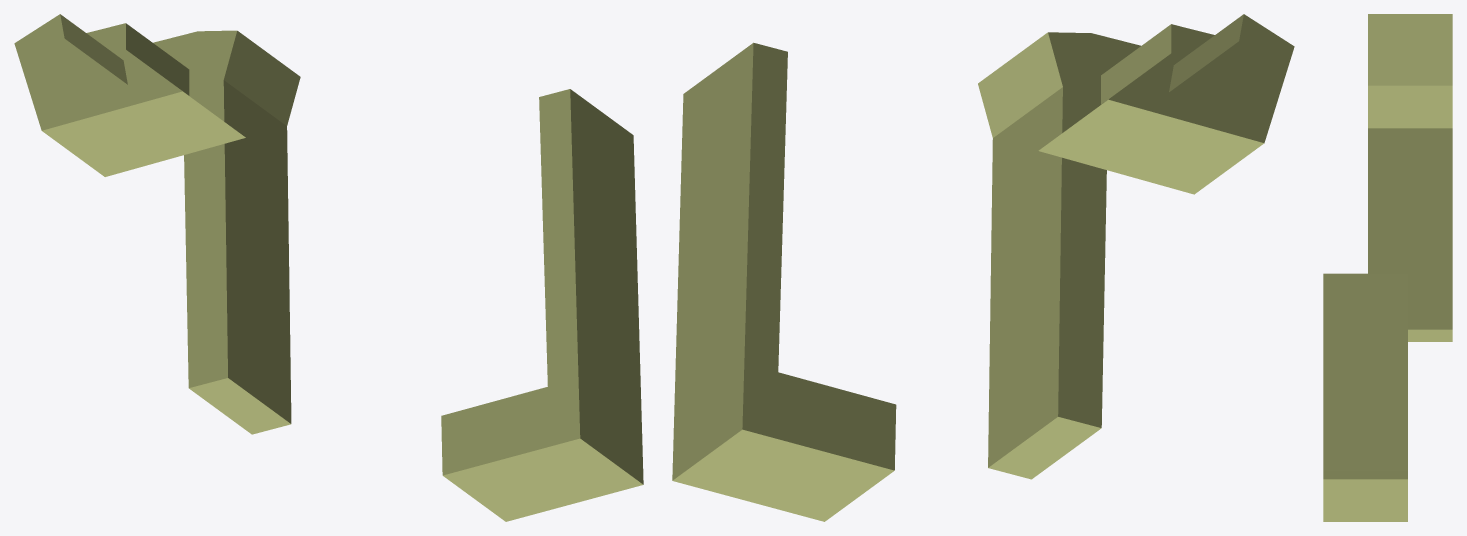
3 renders of one model, left to right at view 1: azimuth 30°, elevation 25°; view 2: azimuth 150°, elevation 25°; view 3: azimuth 270°, elevation 25°, orthographic. The views are drawn at different scales.
Visible parts, largest first — view 1: 0_0_1_1_3_2_3_1_2; view 2: 0_0_1_1_3_2_3_1_2; view 3: 0_0_1_1_3_2_3_1_2.
Part boxes in pixels (box(x1,y1,x2,y2)): 0_0_1_1_3_2_3_1_2: box(14, 14, 643, 521); 0_0_1_1_3_2_3_1_2: box(672, 14, 1294, 521); 0_0_1_1_3_2_3_1_2: box(1323, 14, 1452, 521).
Size of the model in its own units: 43.66 by 40.92 by 13.75.
